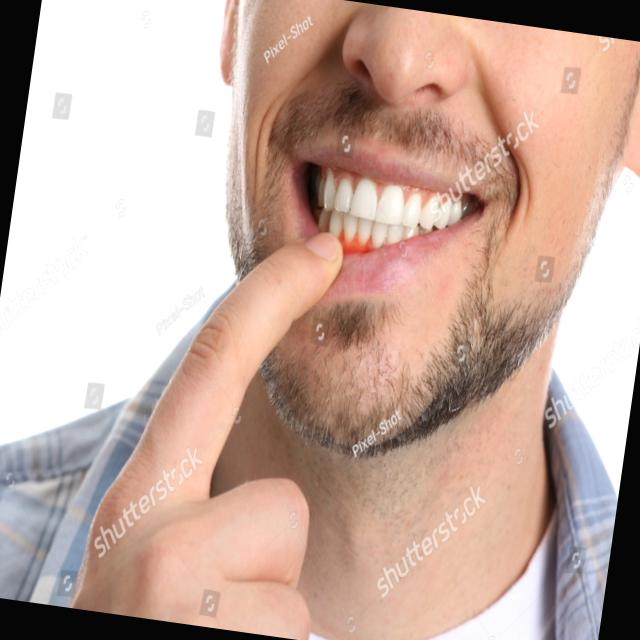abscess: (330, 226, 388, 264)
